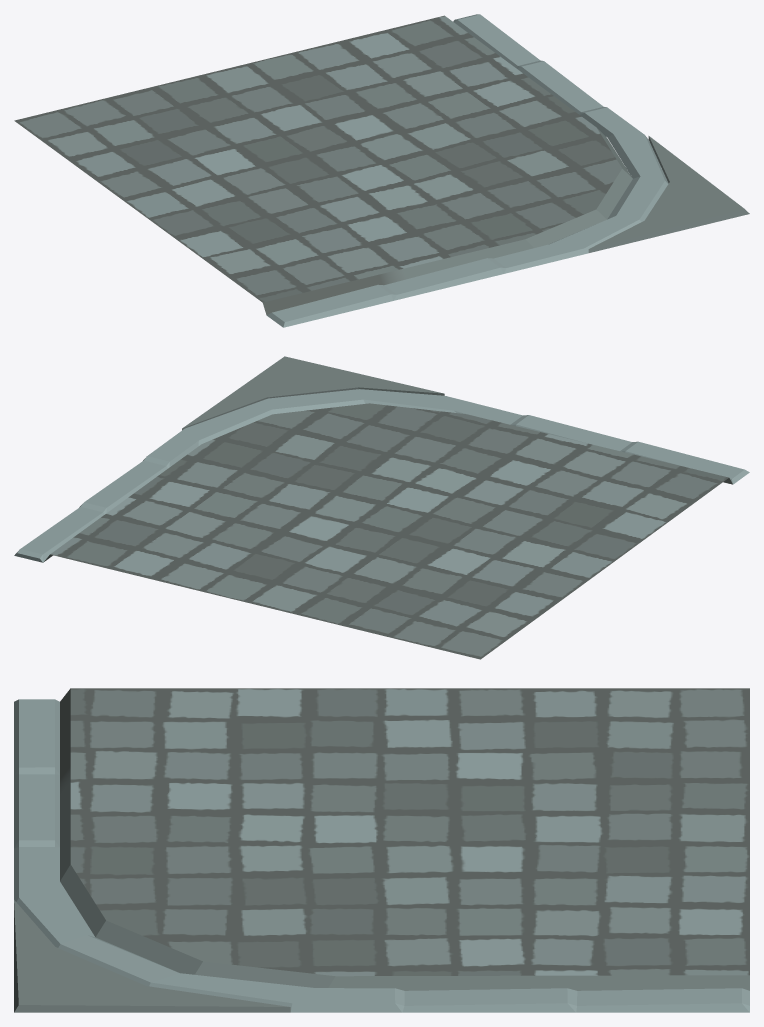
The model's file is NS_Terrain_Walkway_Corner.fbx.
3 renders of one model, top to bottom at view 1: azimuth 30°, elevation 25°; view 2: azimuth 150°, elevation 25°; view 3: azimuth 270°, elevation 25°, orthographic. The views are drawn at different scales.
Visible parts, largest first — view 1: NS_Terrain_Walkway_Corner; view 2: NS_Terrain_Walkway_Corner; view 3: NS_Terrain_Walkway_Corner.
Boxes of the visible parts, x1,y1,x2,y2 form: NS_Terrain_Walkway_Corner: (14, 14, 749, 327); NS_Terrain_Walkway_Corner: (14, 356, 749, 659); NS_Terrain_Walkway_Corner: (14, 688, 749, 1012).
Size of the model in its own units: 400 by 8.18 by 400.
